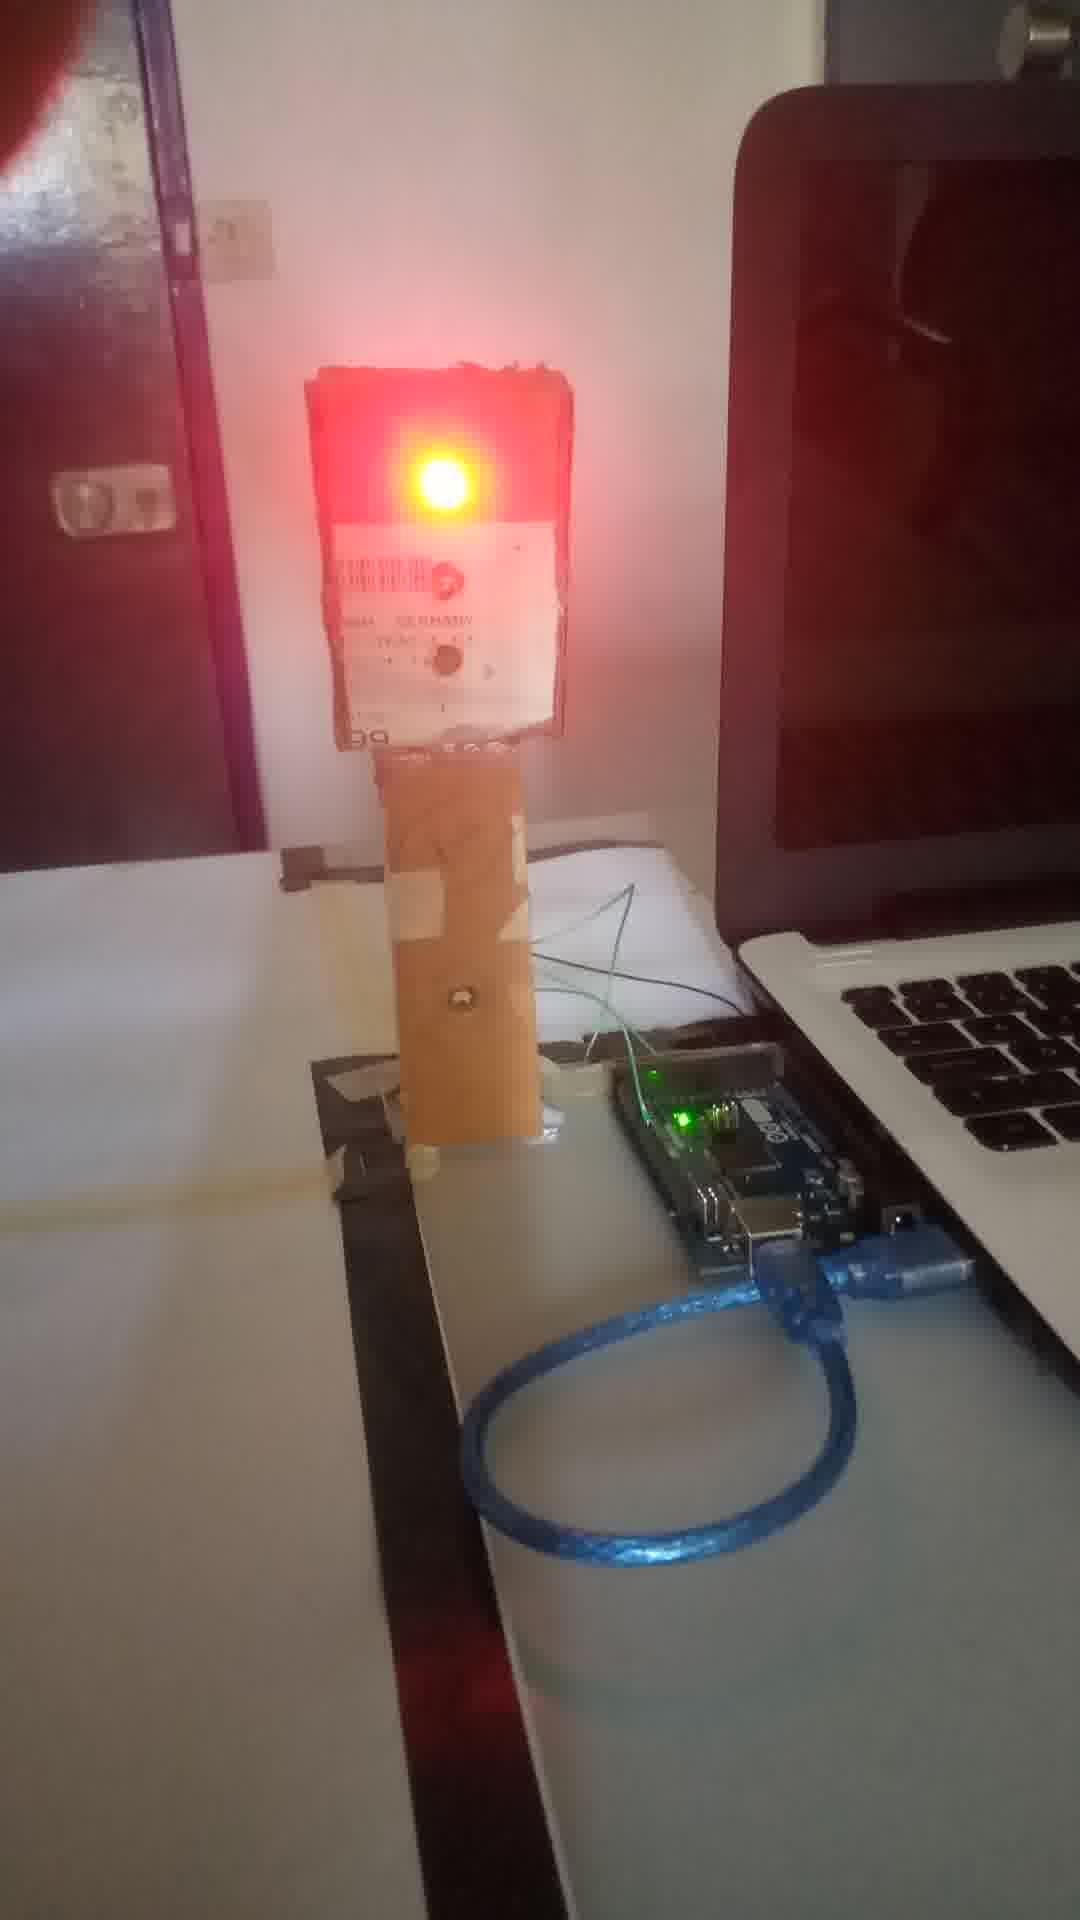red: (313, 380, 574, 757)
